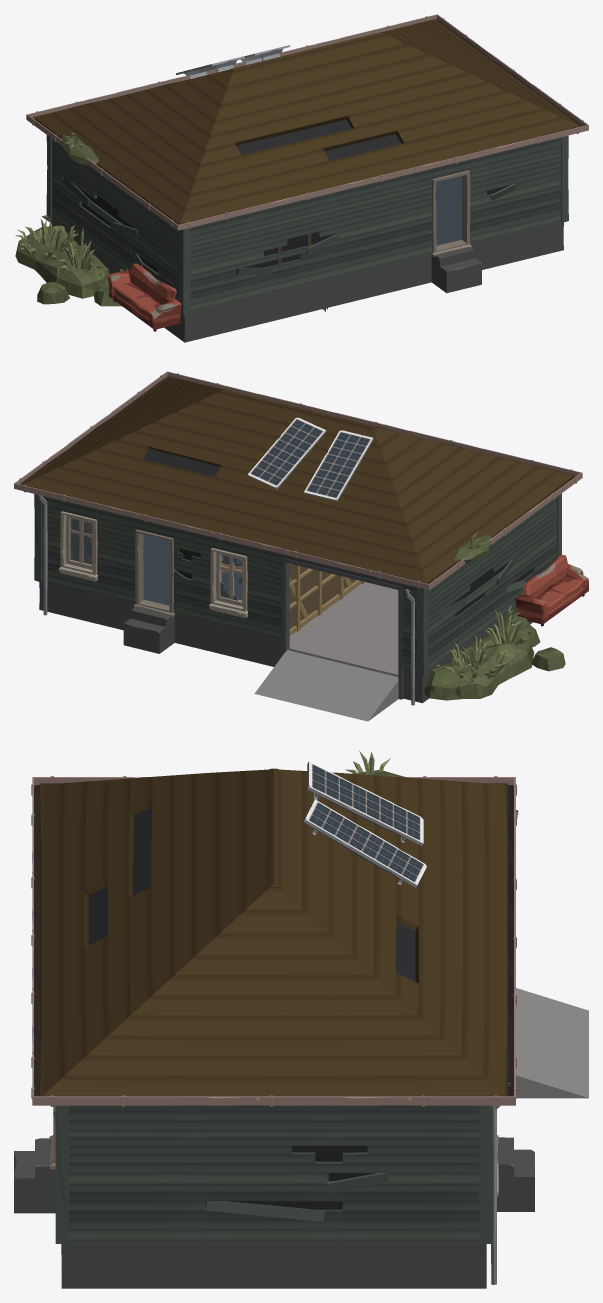
File: Sc_House_04.fbx
3 views of the same model, one above another, from view 1: azimuth 30°, elevation 25°; view 2: azimuth 150°, elevation 25°; view 3: azimuth 270°, elevation 25° (orthographic). The views are drawn at different scales.
Visible parts, largest first — view 1: SM_Bld_House_02__1_, SM_Env_Overgrowth_03, SM_Prop_Couch_01, SM_Prop_Roof_SolarPanel_01__1_, SM_Env_Overgrowth_Edge_02__2_; view 2: SM_Bld_House_02__1_, SM_Env_Overgrowth_03, SM_Prop_Roof_SolarPanel_01__1_, SM_Prop_Couch_01, SM_Bld_House_02_Glass_01, SM_Env_Overgrowth_Edge_02__2_; view 3: SM_Bld_House_02__1_, SM_Prop_Roof_SolarPanel_01__1_.
Boxes of the visible parts, bbox=[...] form: SM_Bld_House_02__1_: bbox=[26, 14, 588, 342]; SM_Env_Overgrowth_03: bbox=[15, 219, 127, 306]; SM_Prop_Couch_01: bbox=[107, 263, 181, 331]; SM_Prop_Roof_SolarPanel_01__1_: bbox=[176, 45, 290, 78]; SM_Env_Overgrowth_Edge_02__2_: bbox=[60, 132, 98, 165]; SM_Bld_House_02__1_: bbox=[14, 371, 582, 721]; SM_Env_Overgrowth_03: bbox=[424, 605, 565, 700]; SM_Prop_Roof_SolarPanel_01__1_: bbox=[247, 417, 373, 501]; SM_Prop_Couch_01: bbox=[515, 555, 588, 626]; SM_Bld_House_02_Glass_01: bbox=[70, 518, 242, 600]; SM_Env_Overgrowth_Edge_02__2_: bbox=[454, 531, 491, 565]; SM_Bld_House_02__1_: bbox=[14, 768, 588, 1288]; SM_Prop_Roof_SolarPanel_01__1_: bbox=[303, 761, 426, 887].
Size of the model in its own units: 1590 by 659 by 1050.
Materials: 4 (4 with a texture image).
